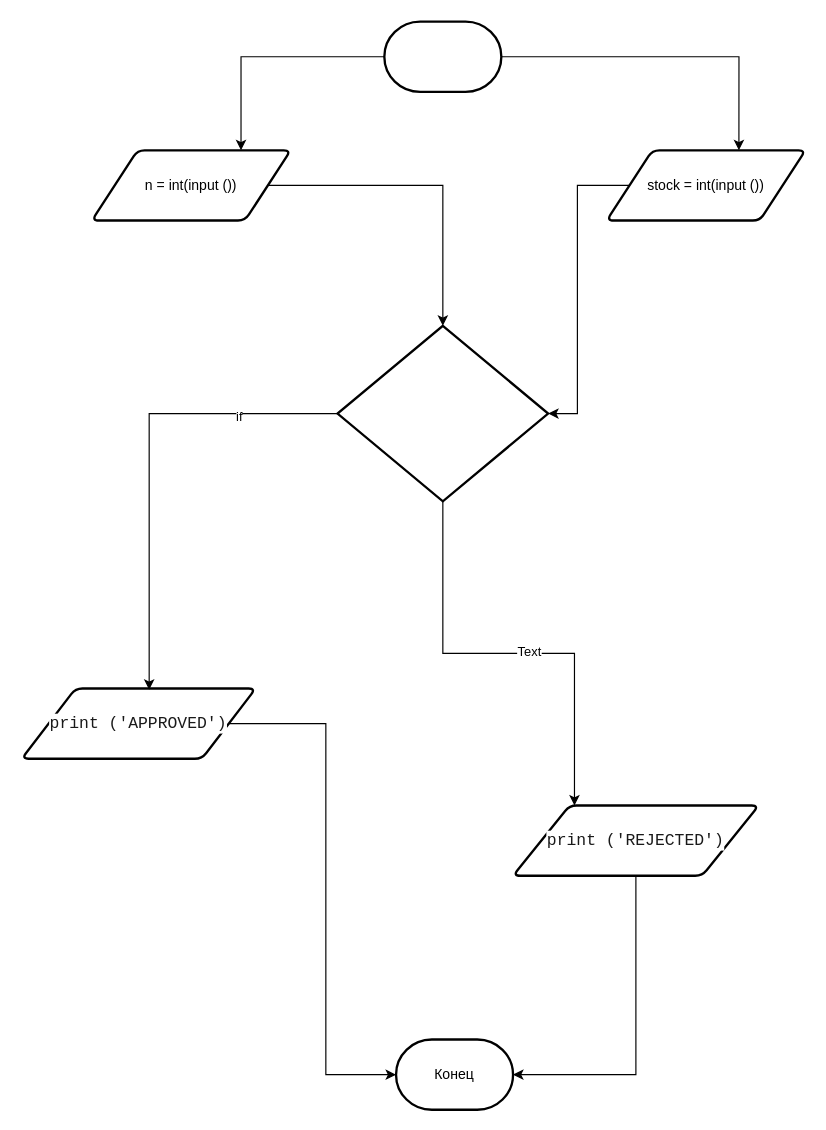
This 826x1130 diagram has some shape labels left out. The centre of each missing label's shape, as x and y in pixels:
n <= stock: (x=442, y=413)
Старт: (x=442, y=56)
